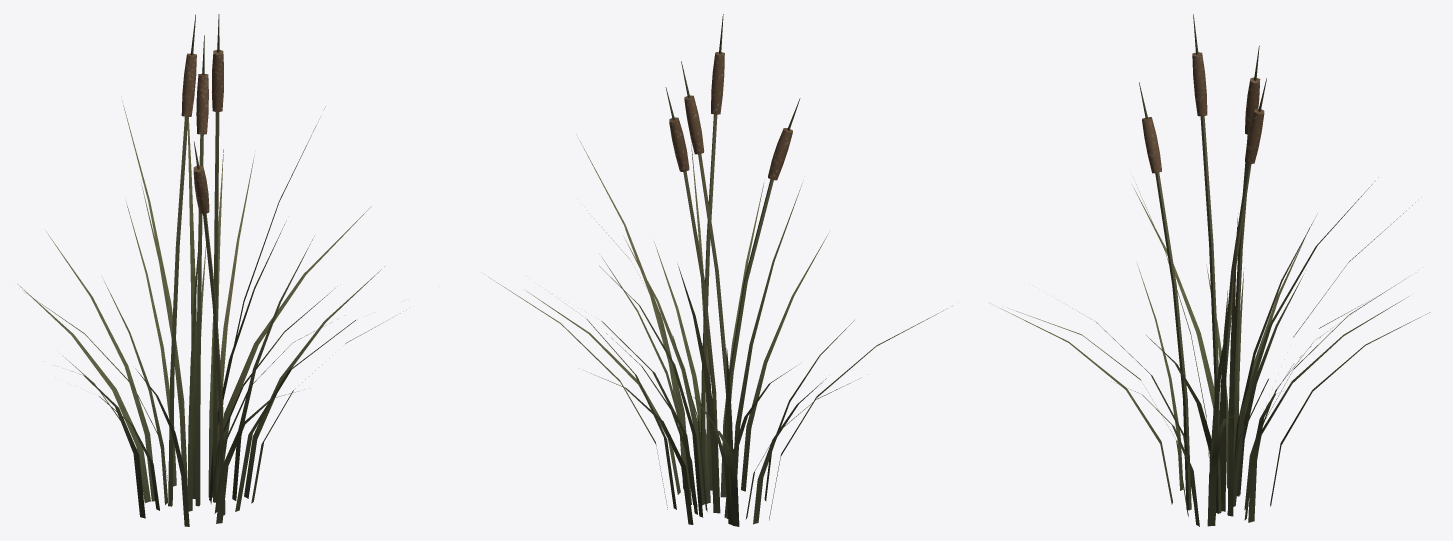
File: fm_reeds_cattail_b.glb
The picture shows the model from 3 angles, left to right: view 1: azimuth 30°, elevation 25°; view 2: azimuth 150°, elevation 25°; view 3: azimuth 270°, elevation 25°; orthographic projection. The views are drawn at different scales.
Visible parts, largest first — view 1: fm_reeds_cattail_b; view 2: fm_reeds_cattail_b; view 3: fm_reeds_cattail_b.
Boxes of the visible parts, x1,y1,x2,y2 form: fm_reeds_cattail_b: [18, 14, 403, 526]; fm_reeds_cattail_b: [489, 14, 947, 526]; fm_reeds_cattail_b: [1000, 14, 1429, 526].
Bounding box in the file's own units: 1.62 × 1.85 × 1.53.
Materials: 1 (1 with a texture image).
